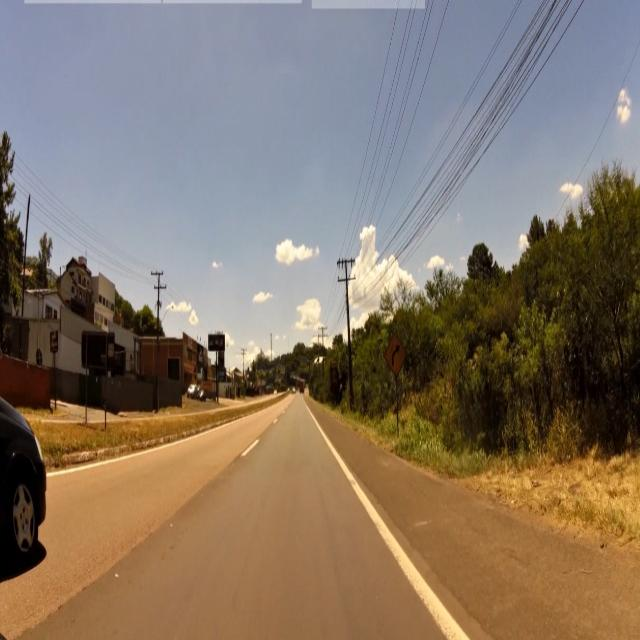A-2b: (385, 332, 407, 379)
